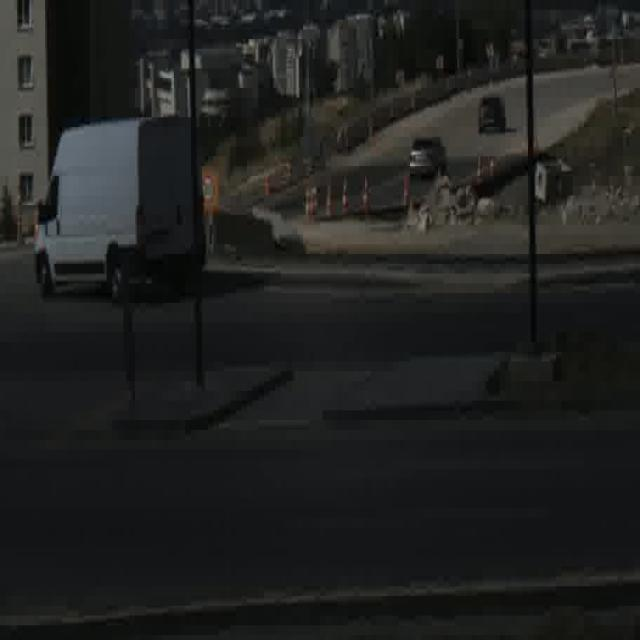Car: (33, 114, 194, 302), (408, 133, 449, 175), (479, 92, 508, 133)
